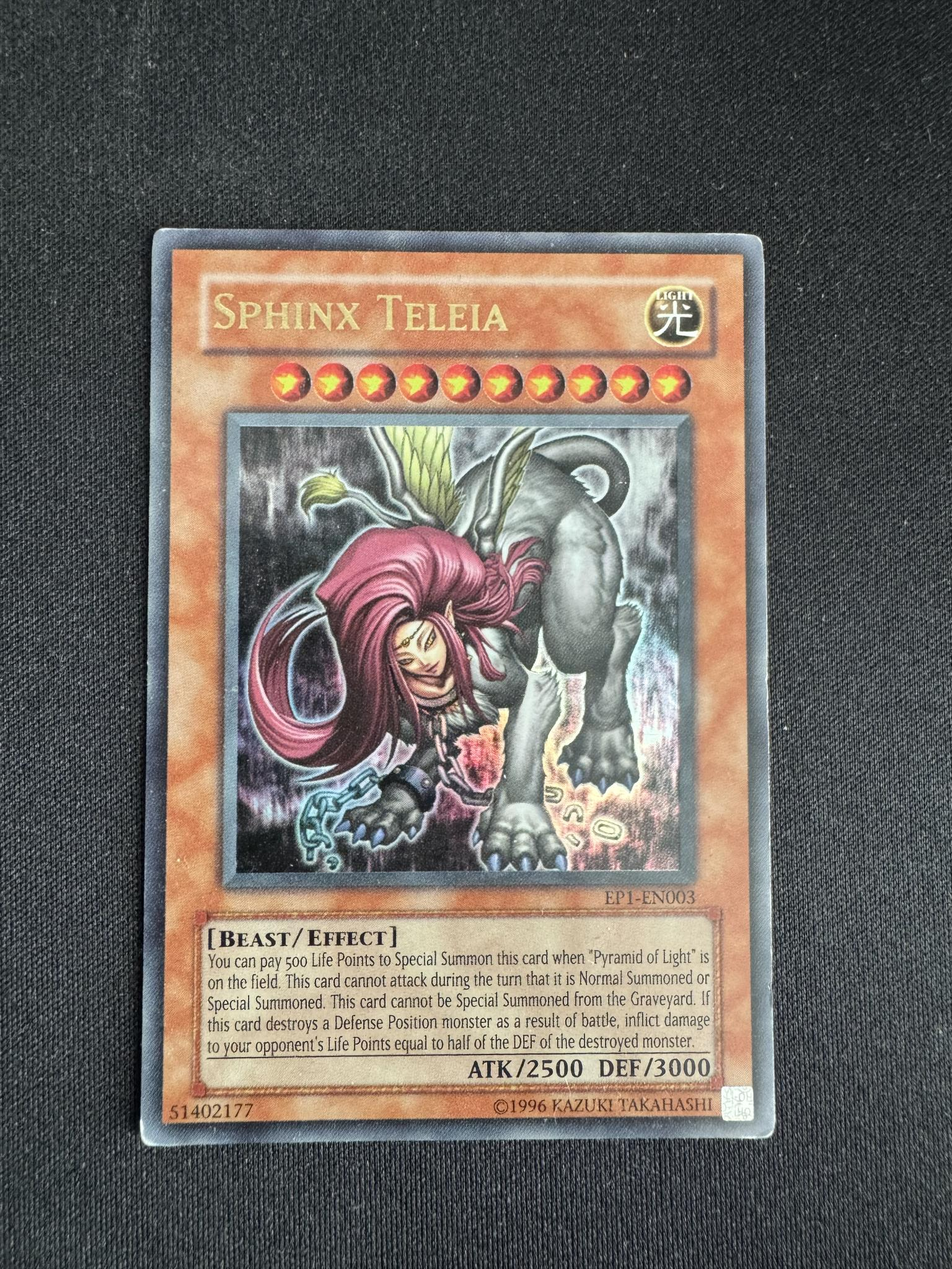card-2UtV: (140, 228, 775, 1147)
